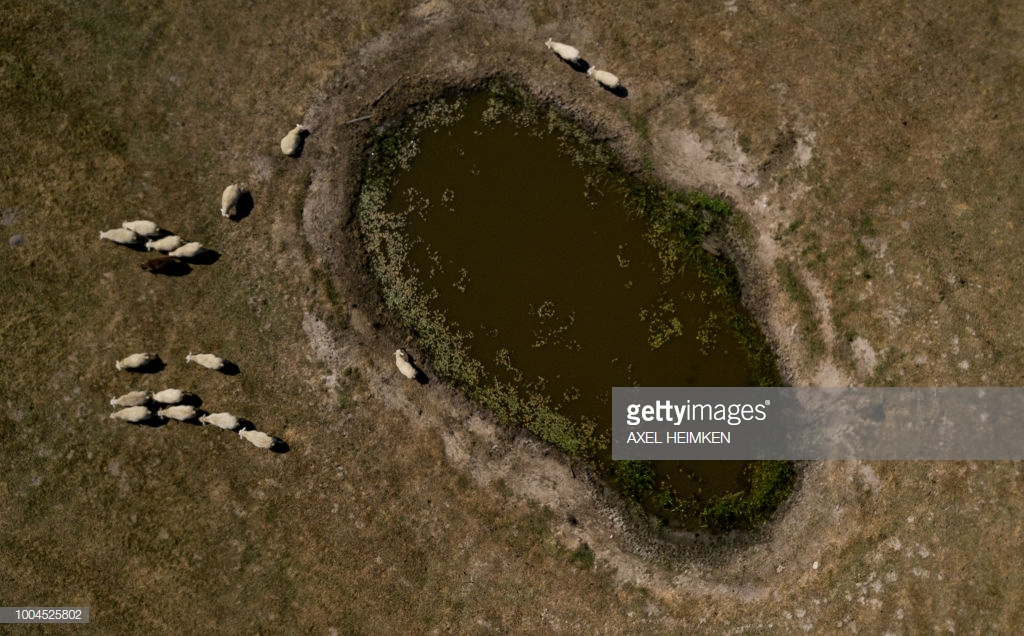sheep: (272, 119, 312, 159), (390, 351, 422, 393), (112, 350, 165, 375), (217, 181, 248, 223), (234, 424, 277, 454), (541, 34, 581, 64), (149, 404, 205, 425), (135, 251, 182, 276), (142, 233, 185, 260), (199, 410, 245, 434), (183, 351, 225, 377), (585, 63, 623, 90), (102, 390, 146, 410), (155, 386, 192, 409), (102, 406, 158, 421), (97, 227, 138, 247), (121, 215, 158, 236), (170, 239, 205, 261)
